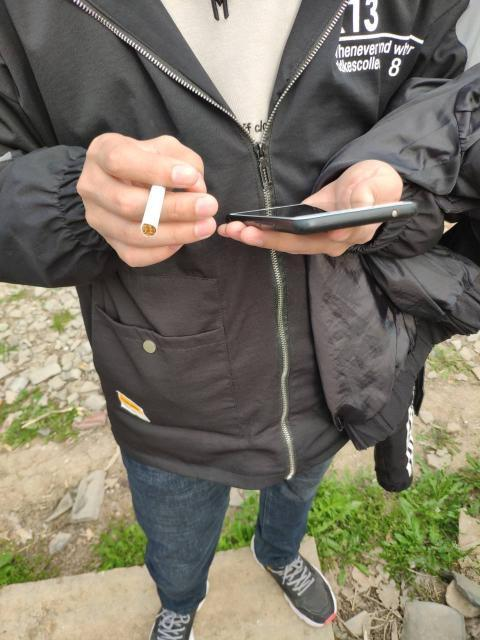Smoking: (134, 172, 180, 244)
